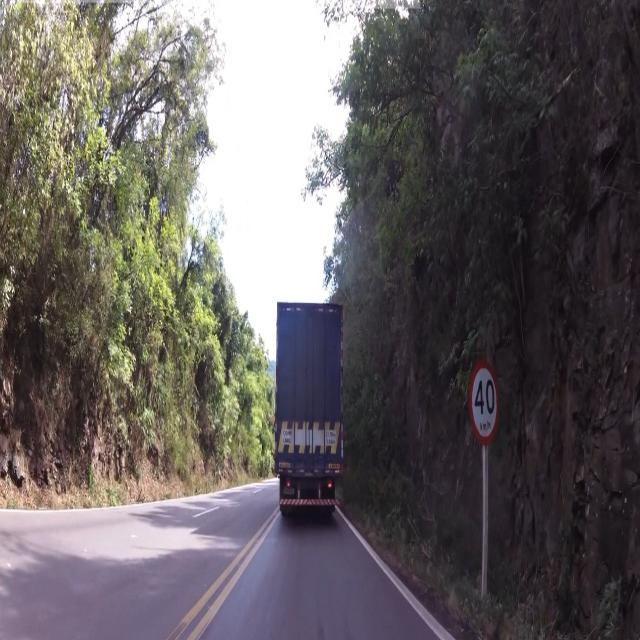R-19: (459, 356, 510, 448)
